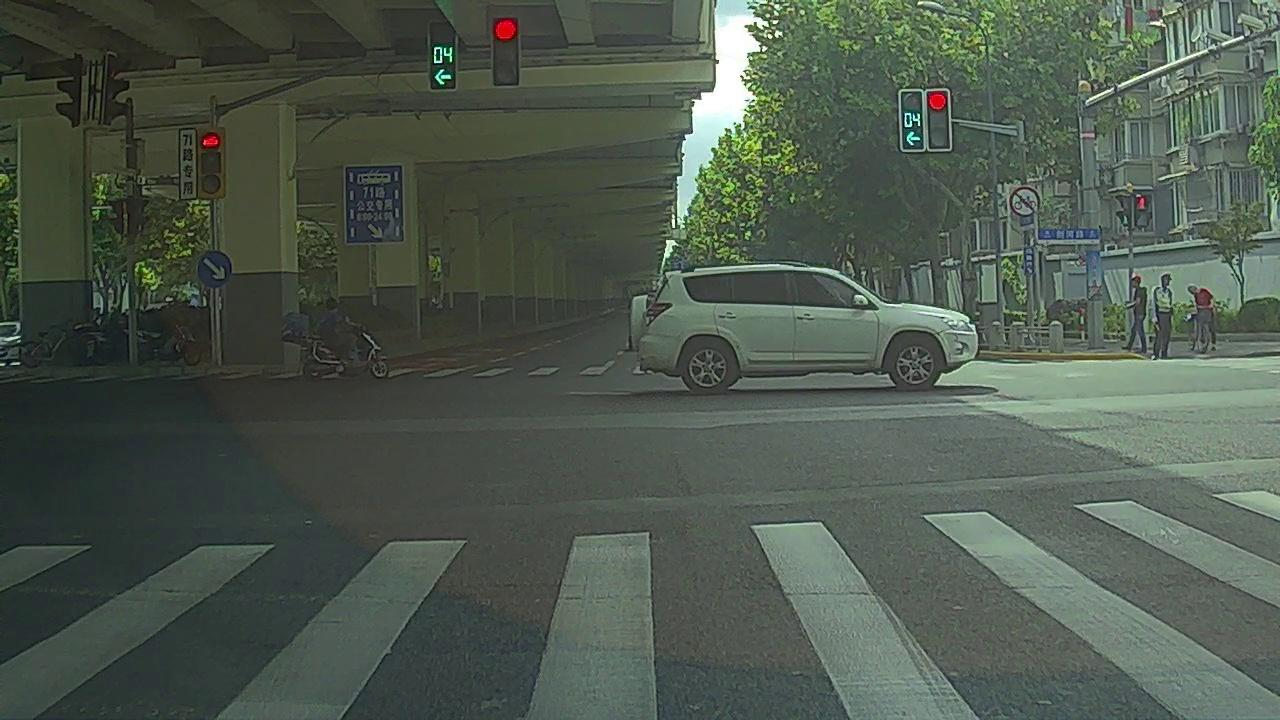traffic_light: (429, 20, 458, 88), (493, 19, 520, 86), (898, 90, 926, 151), (928, 86, 950, 152)
